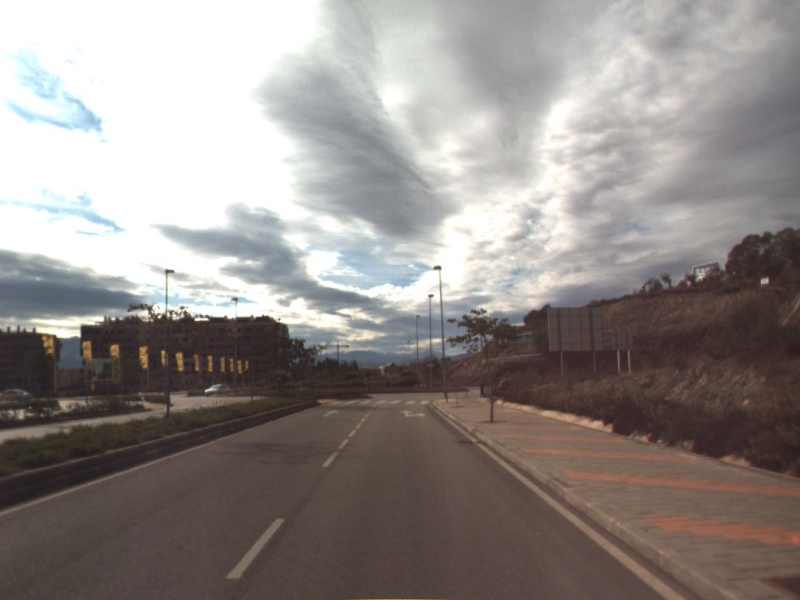STRAIGHT: (321, 408, 342, 418)
STRAIGHT_RIGHT: (398, 408, 428, 419)
